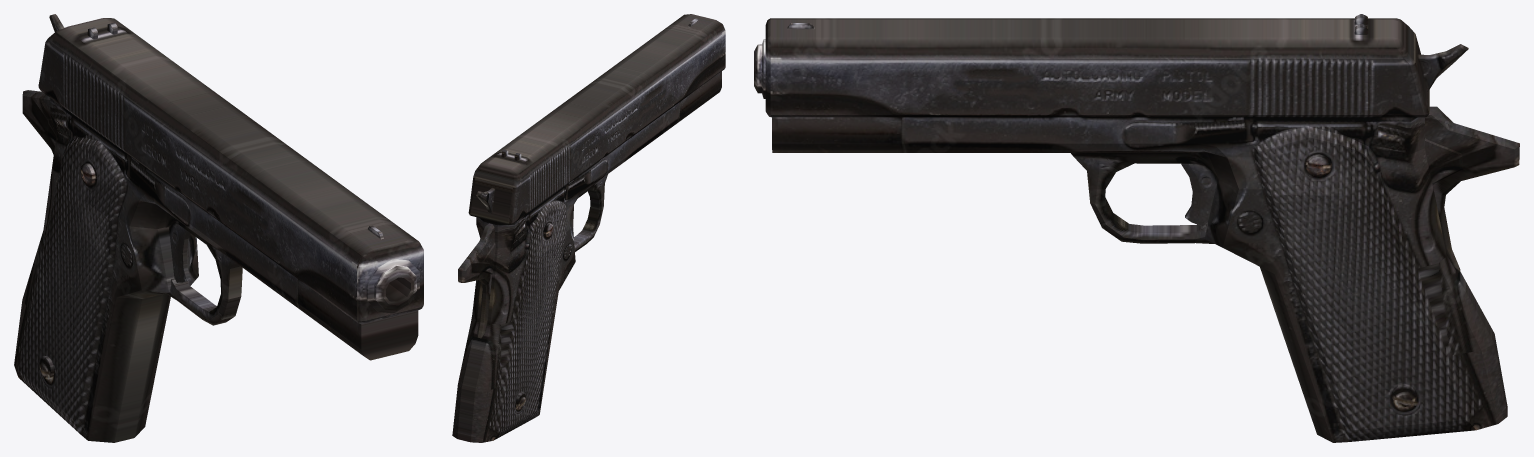
The model's file is Pistol.fbx.
3 views of the same model, side by side, from view 1: azimuth 30°, elevation 25°; view 2: azimuth 150°, elevation 25°; view 3: azimuth 270°, elevation 25° (orthographic). The views are drawn at different scales.
Visible parts, largest first — view 1: Pistol, PistolTop; view 2: Pistol, PistolTop; view 3: Pistol, PistolTop.
Part boxes in pixels (x1=…): Pistol: x1=14, y1=90, x2=418, y2=442; PistolTop: x1=38, y1=14, x2=423, y2=323; Pistol: x1=452, y1=71, x2=721, y2=442; PistolTop: x1=468, y1=14, x2=725, y2=224; Pistol: x1=754, y1=44, x2=1519, y2=442; PistolTop: x1=762, y1=14, x2=1468, y2=117.
Size of the model in its own units: 7.37 by 35.78 by 60.66.
